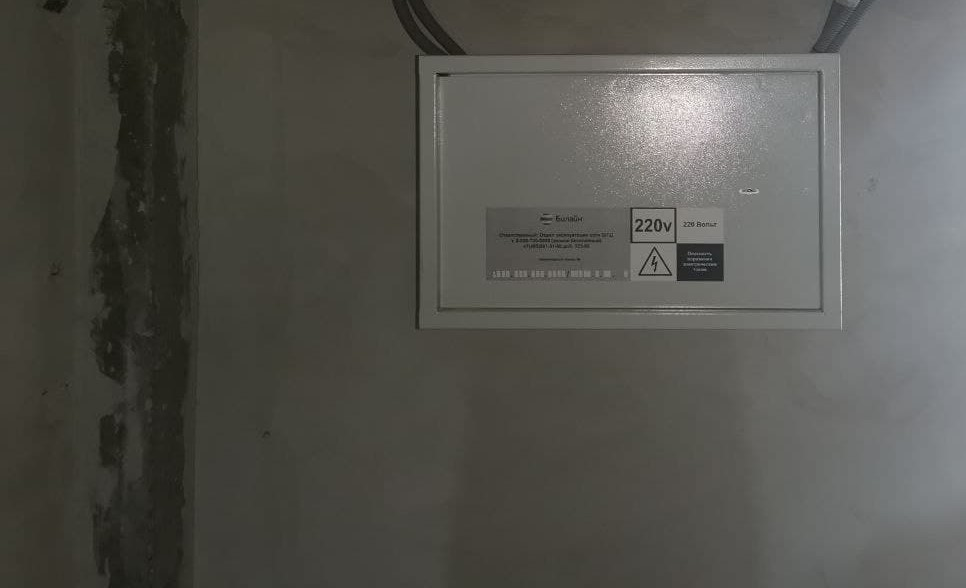shta-7m: (399, 39, 859, 344)
